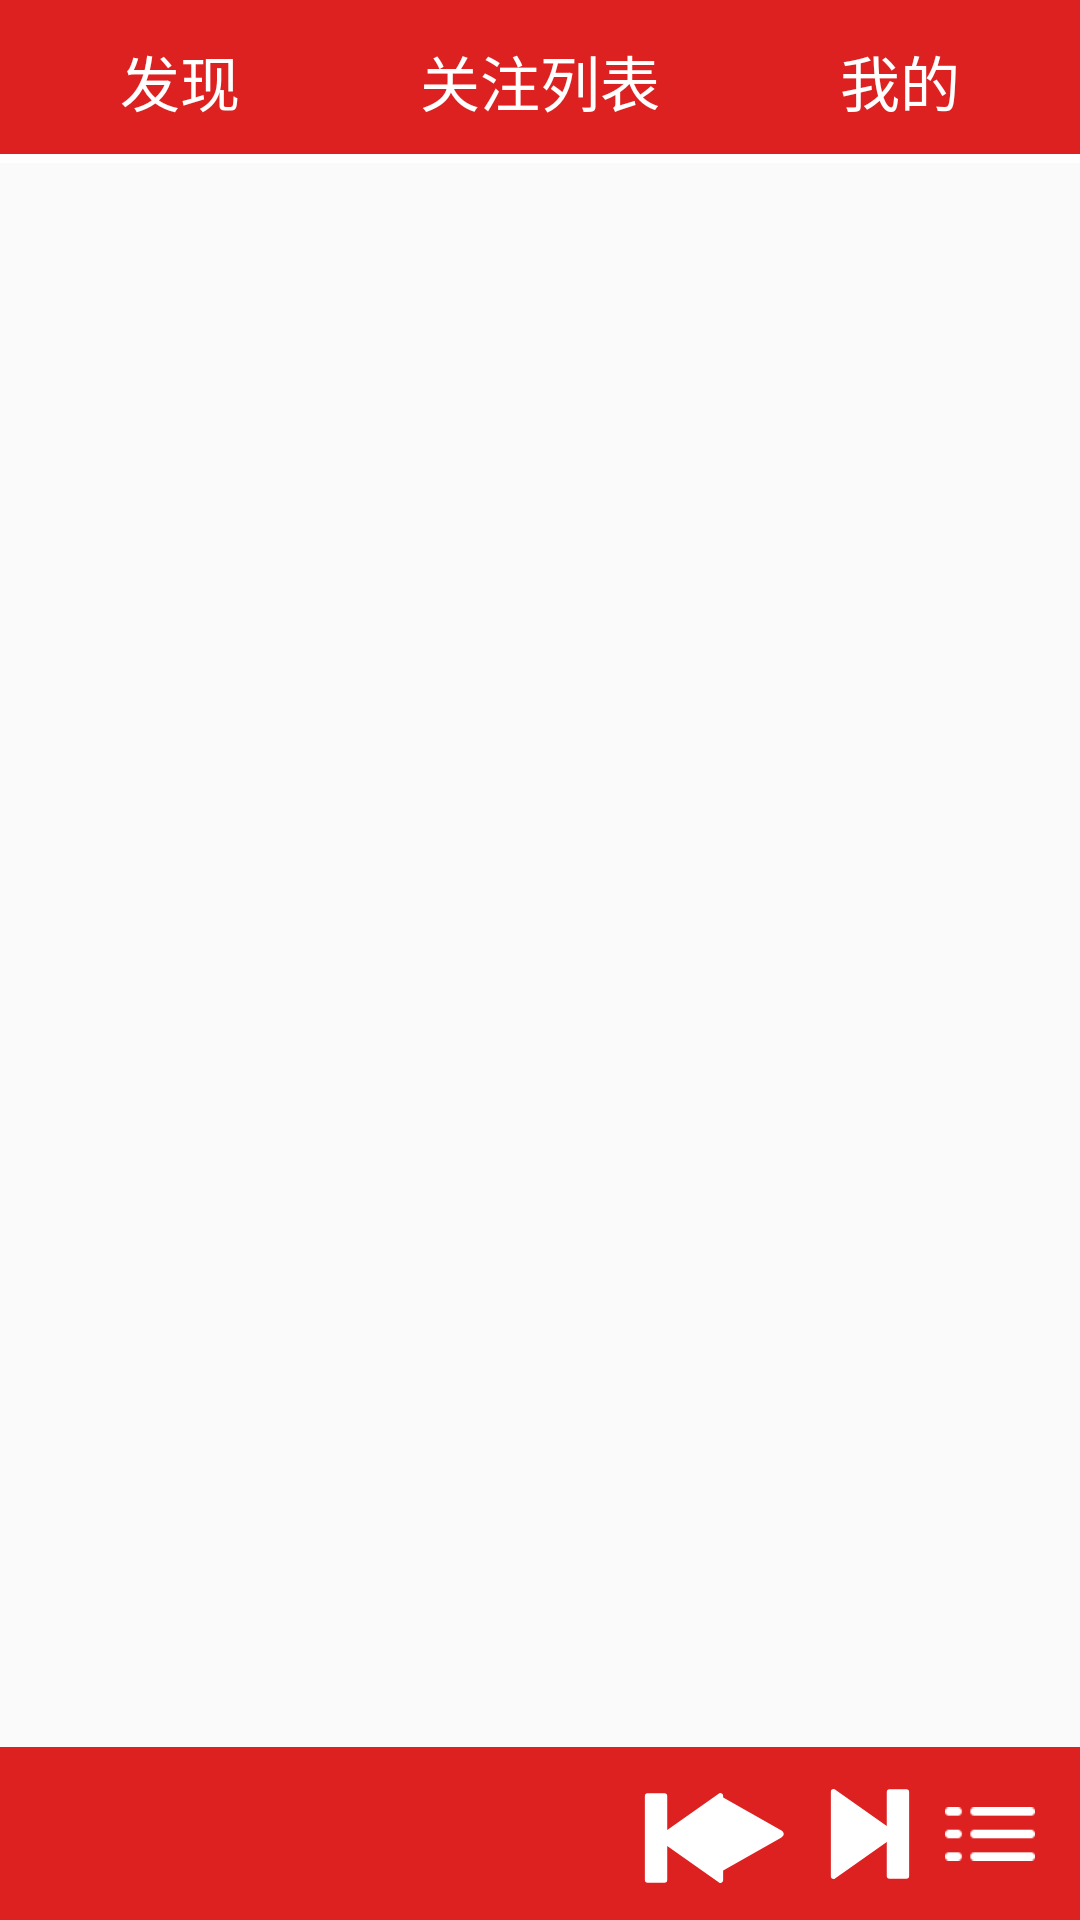

Screen size 1080*1920. Icon name, then its box in pixels as [x1, y1, x2, y2]:
list: [945, 1807, 1035, 1861]
next: [830, 1789, 910, 1879]
play: [705, 1793, 784, 1879]
previous: [644, 1793, 729, 1883]
